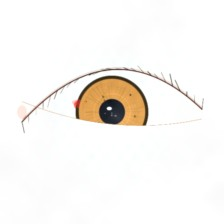hemorrhage_spot: (62, 70, 150, 140)
